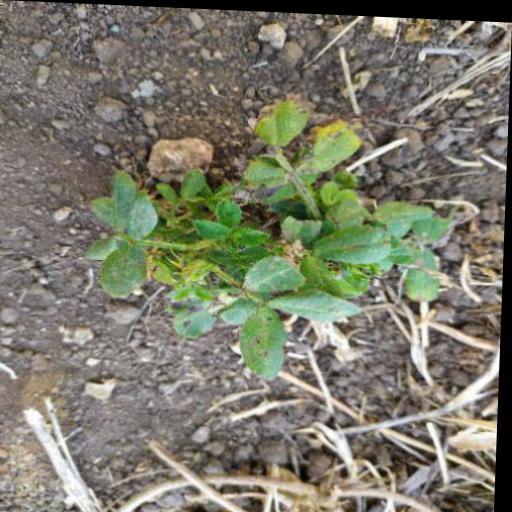weed: (90, 94, 494, 367)
